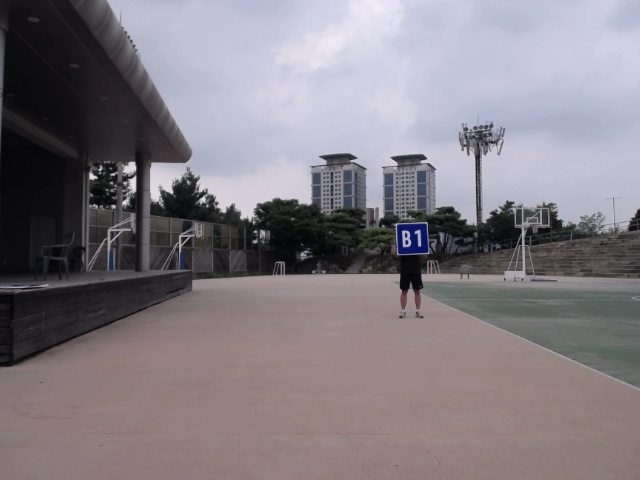delivery_b1: (396, 223, 429, 255)
